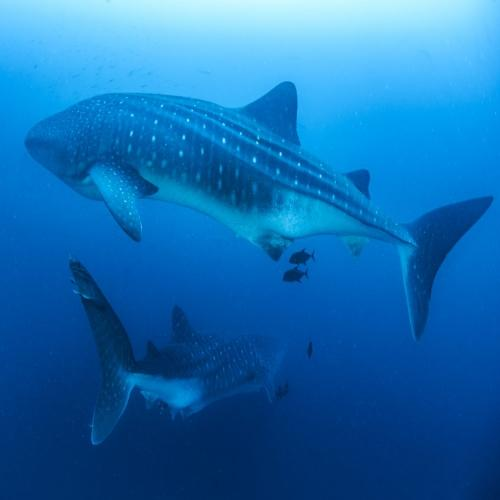shark-endangered: (24, 83, 494, 342), (65, 258, 288, 447)
